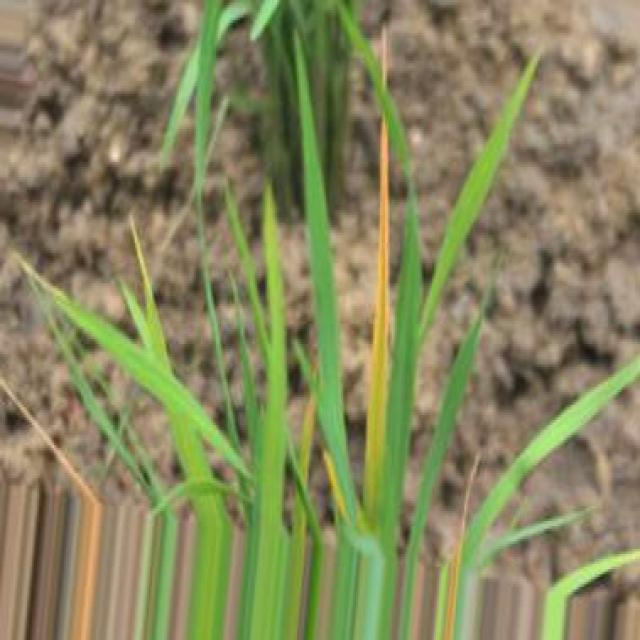Rice Tungro: (364, 116, 390, 525)
